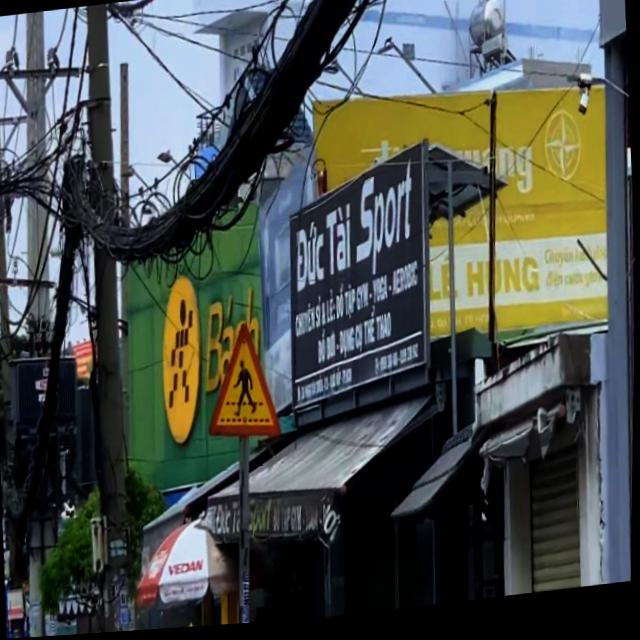Nguoi di bo cat ngang: (204, 321, 285, 452)
